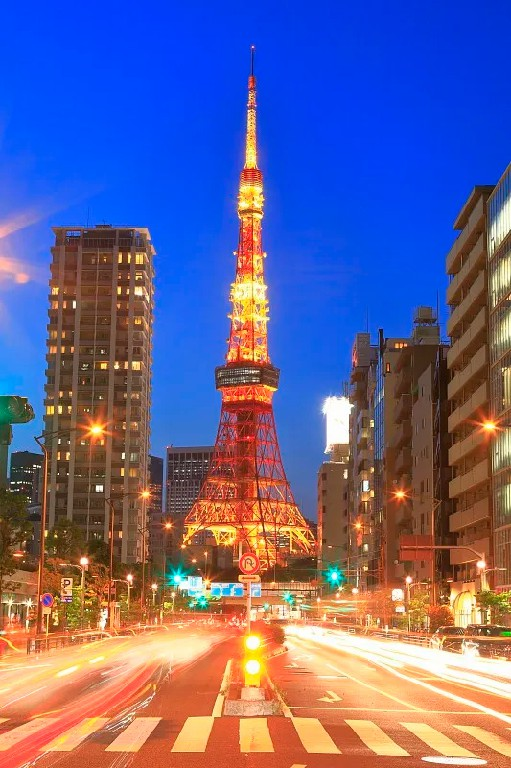Tokyo: (183, 40, 315, 552)
